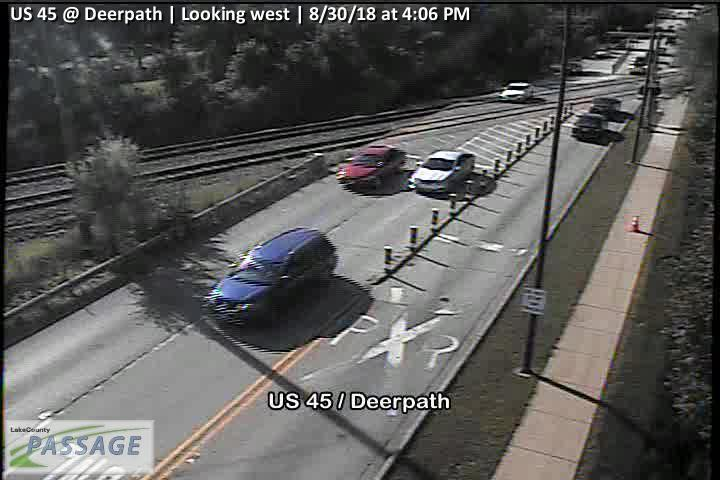SUV: (205, 227, 340, 332), (570, 112, 606, 140), (591, 95, 623, 119)
Sedan: (334, 144, 407, 191), (407, 148, 476, 195), (497, 81, 538, 104), (629, 63, 648, 78), (562, 61, 583, 73)
